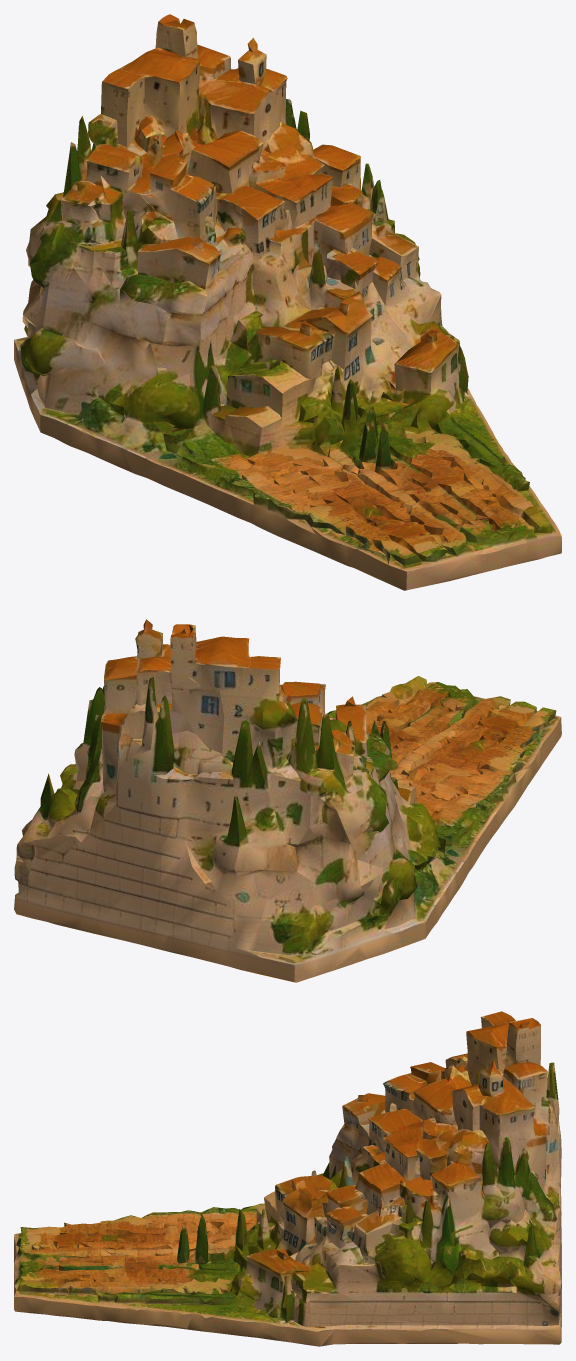
Rendered from gordes.glb.
The picture shows the model from 3 angles, top to bottom: view 1: azimuth 30°, elevation 25°; view 2: azimuth 150°, elevation 25°; view 3: azimuth 270°, elevation 25°; orthographic projection. The views are drawn at different scales.
Visible parts, largest first — view 1: logan-textured.obj; view 2: logan-textured.obj; view 3: logan-textured.obj.
Part boxes in pixels (x1=…): logan-textured.obj: x1=14, y1=14, x2=561, y2=590; logan-textured.obj: x1=14, y1=619, x2=561, y2=982; logan-textured.obj: x1=14, y1=1011, x2=561, y2=1346.
Size of the model in its own units: 0.6217 by 0.5256 by 1.
1 material, 1 textured.
